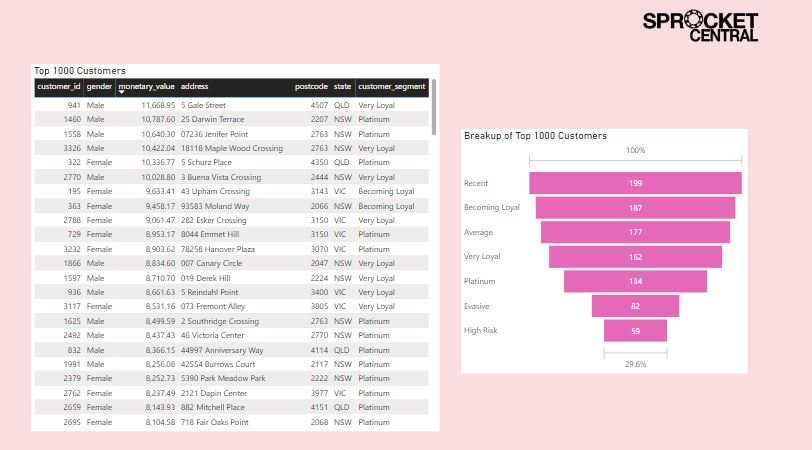

The page's visual inventory and layout, read from the dashboard file:
{"tool":"powerbi","page":{"name":"Top 1000 Customers","canvas":[1280,720],"ordinal":1},"visuals":[{"type":"image","box":[1047,0,233.3,78.3],"z":0},{"type":"tableEx","title":"Top 1000 Customers","fields":{"Values":["Top 1000.customer_id","Top 1000.gender","Top 1000.monetary_value","Top 1000.address","Top 1000.postcode","Top 1000.state","Top 1000.customer_segment"]},"box":[45.1,97.2,680.5,611.5],"z":1000},{"type":"funnel","title":"Breakup of Top 1000 Customers","fields":{"Category":["Top 1000.customer_segment","Top 1000.customer_title"],"Y":["CountNonNull(Top 1000.gender)"]},"box":[760.9,204.3,477.7,407.2],"z":2000}]}

Visuals, with their boxes in screenshot pixels (x1, y1, x2, y2), scaled from the page's 1280x720 canvas onto the 812x450 screenshot:
image: 664/0/811/49
"Top 1000 Customers" tableEx: 29/61/460/443
"Breakup of Top 1000 Customers" funnel: 483/128/786/382
